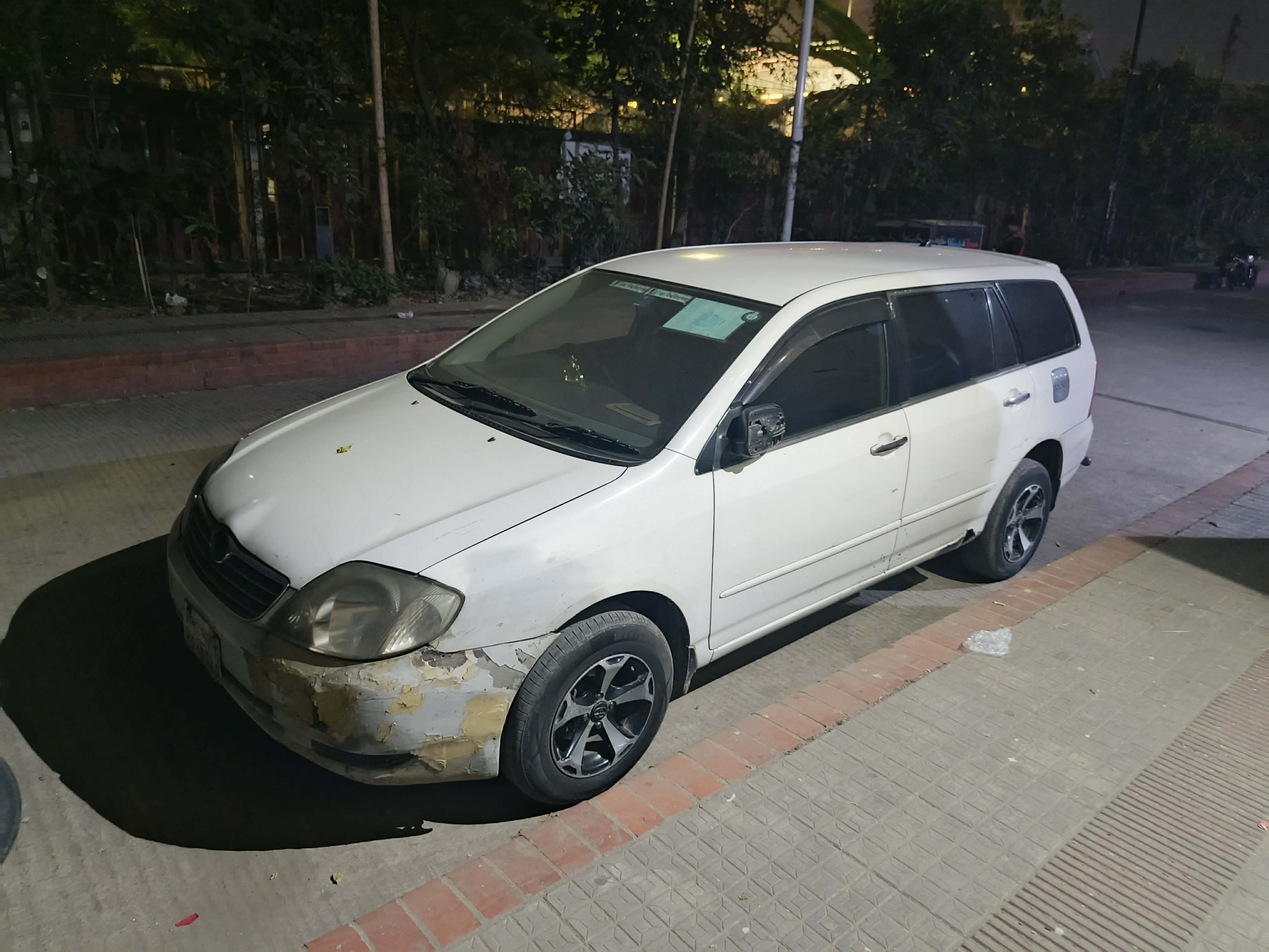private car: (159, 223, 1121, 807)
